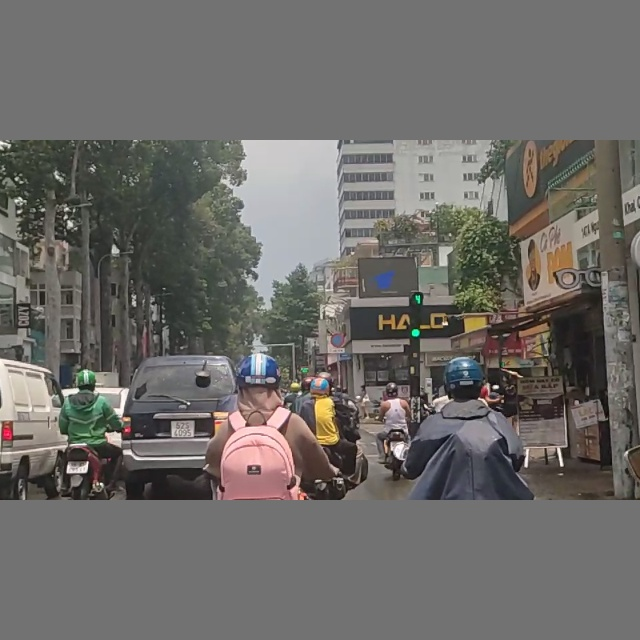P.131a: (329, 332, 345, 347)
